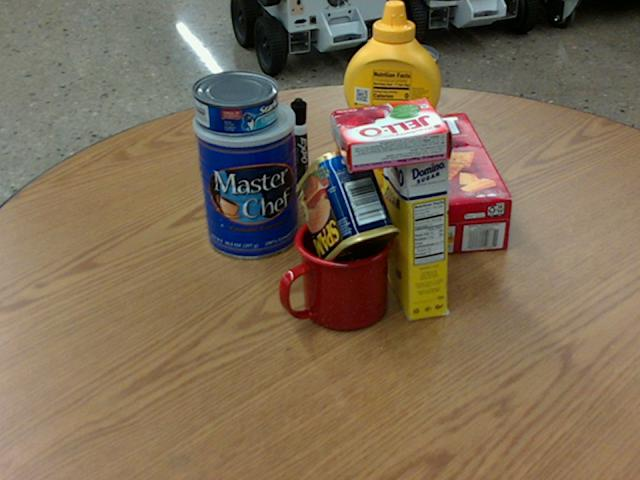cracker_box: (334, 112, 510, 259)
gelatin_box: (331, 97, 451, 170)
large_marker: (289, 99, 309, 199)
master_chef_can: (193, 95, 300, 257)
mug: (276, 213, 392, 332)
mustard_bottle: (344, 0, 440, 195)
potted_meat_can: (295, 147, 399, 271)
sugar_box: (379, 110, 447, 322)
tomato_soup_can: (376, 43, 437, 150)
tuna_fish_can: (191, 70, 277, 134)
